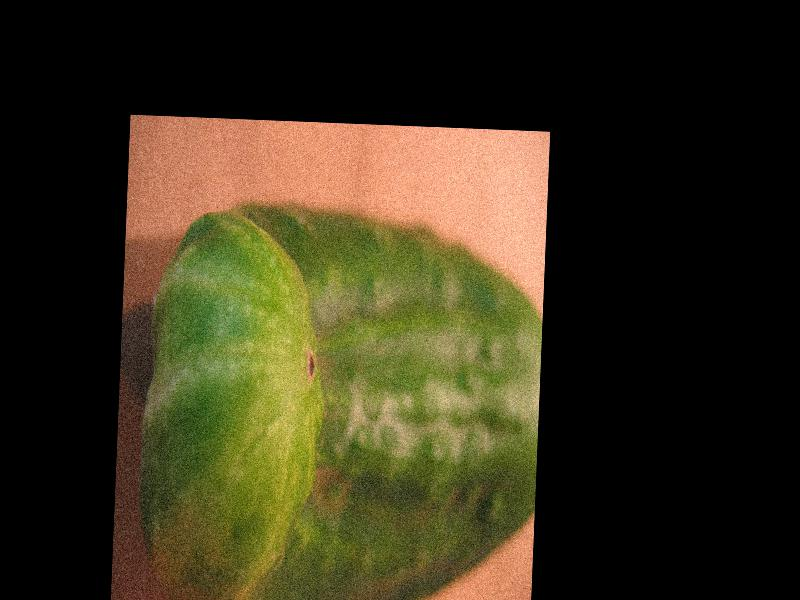Cucumber: (135, 197, 545, 600)
